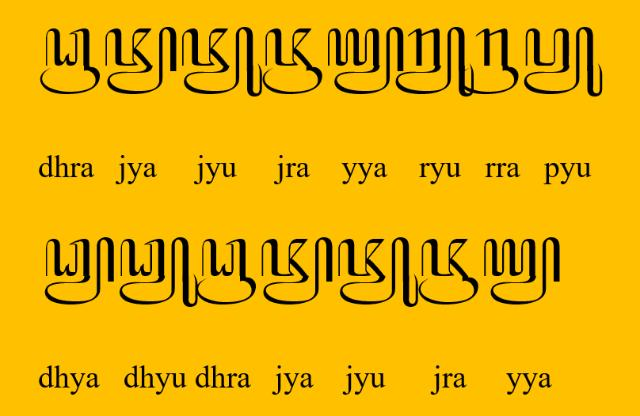dhr: (195, 238, 255, 306), (40, 28, 100, 95)
dhy: (44, 238, 114, 306)
dhyu: (120, 238, 198, 308)
jr: (419, 238, 479, 306), (262, 28, 322, 95)
jy: (261, 236, 333, 306), (105, 27, 177, 96)
jyu: (181, 26, 263, 98), (337, 236, 419, 308)
pyu: (524, 26, 602, 98)
rr: (458, 28, 520, 95)
ryu: (396, 27, 474, 97)
yy: (483, 236, 561, 306), (328, 27, 404, 96)
